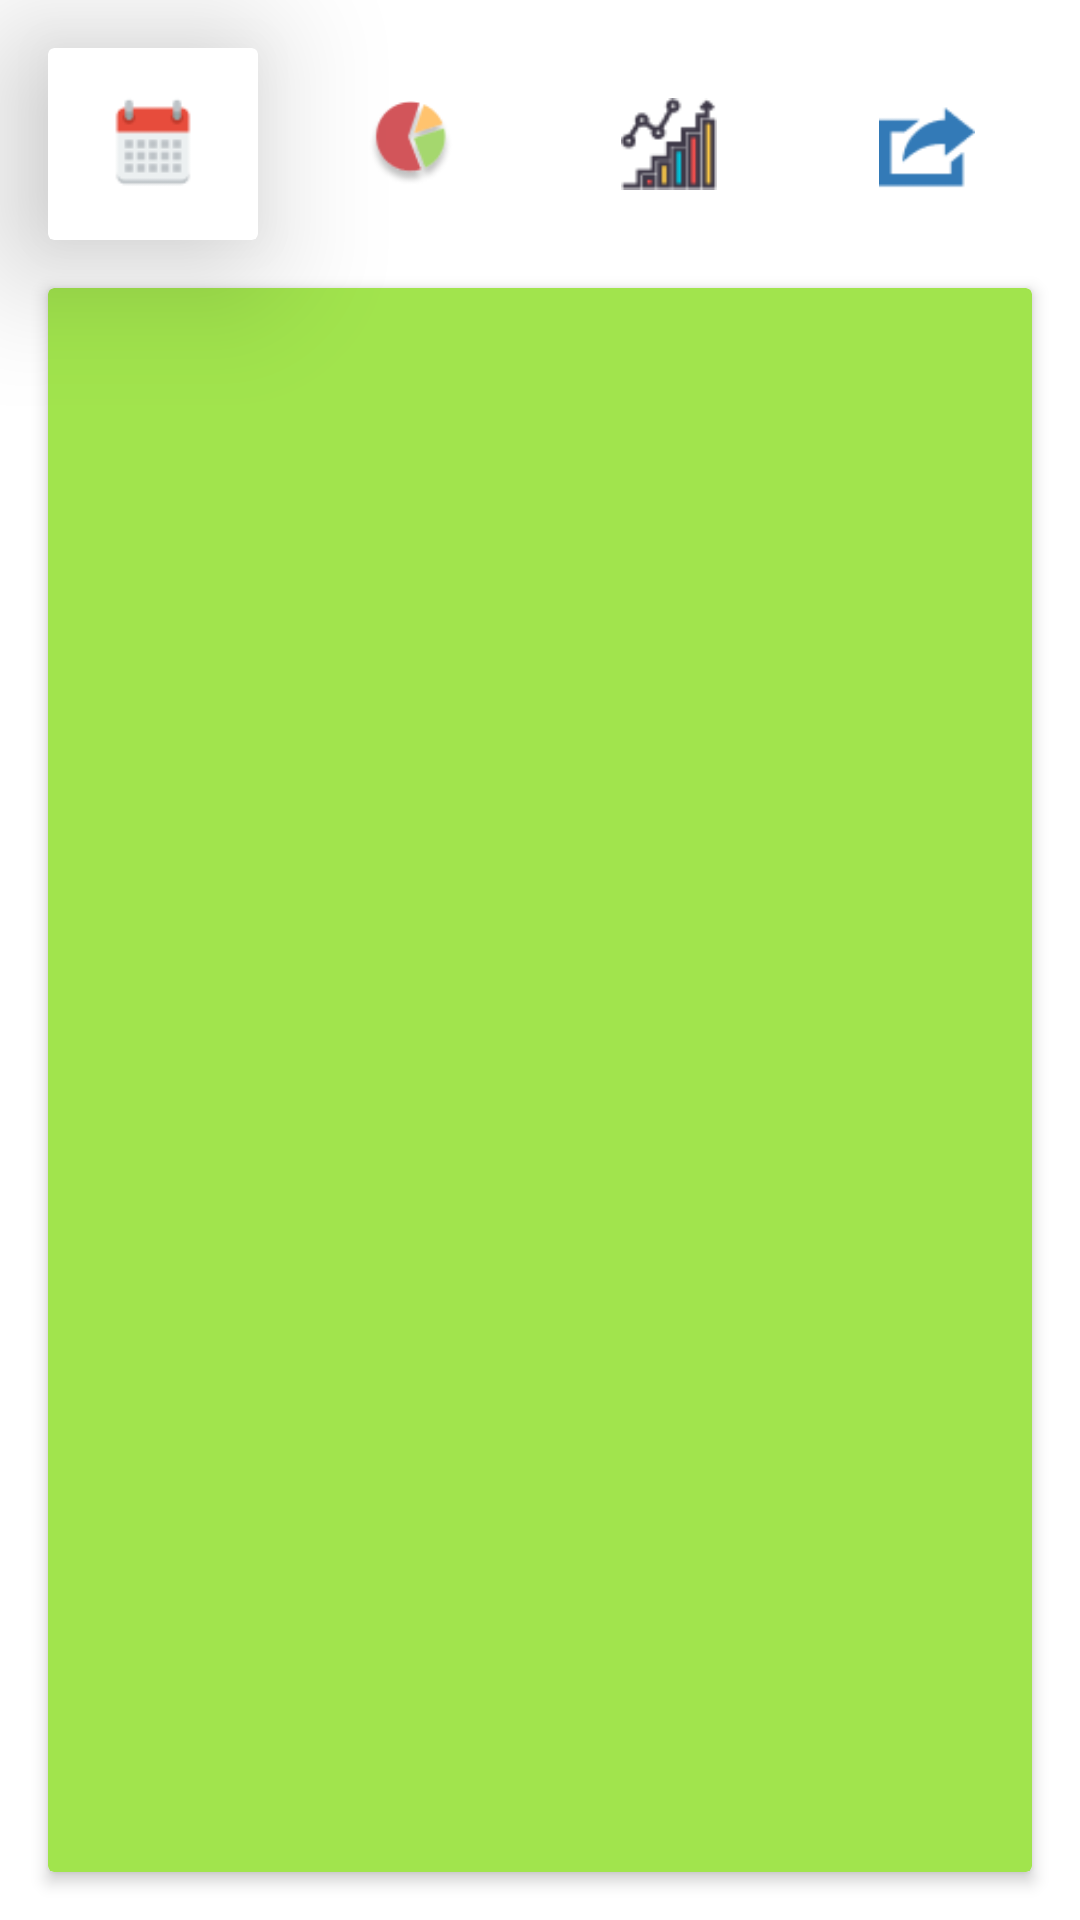

Named icons in this screenshot (1080 × 1920) and their centers, (x,y):
create report barchart: (669,144)
create report calendar: (153,142)
create report export: (927,147)
create report piechart: (410,140)
